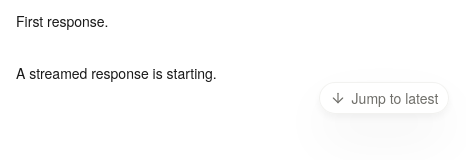
Test case: ConversationTranscript › jumps to the latest content and resumes following streamed output
Click the button "Jump to latest" at (384, 98), box top-left (319, 82), bottom-right (449, 114)
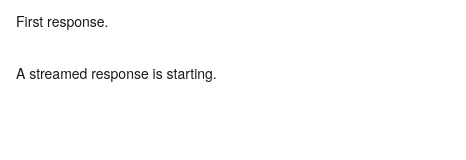
Expected: the button "Jump to latest" is gone
